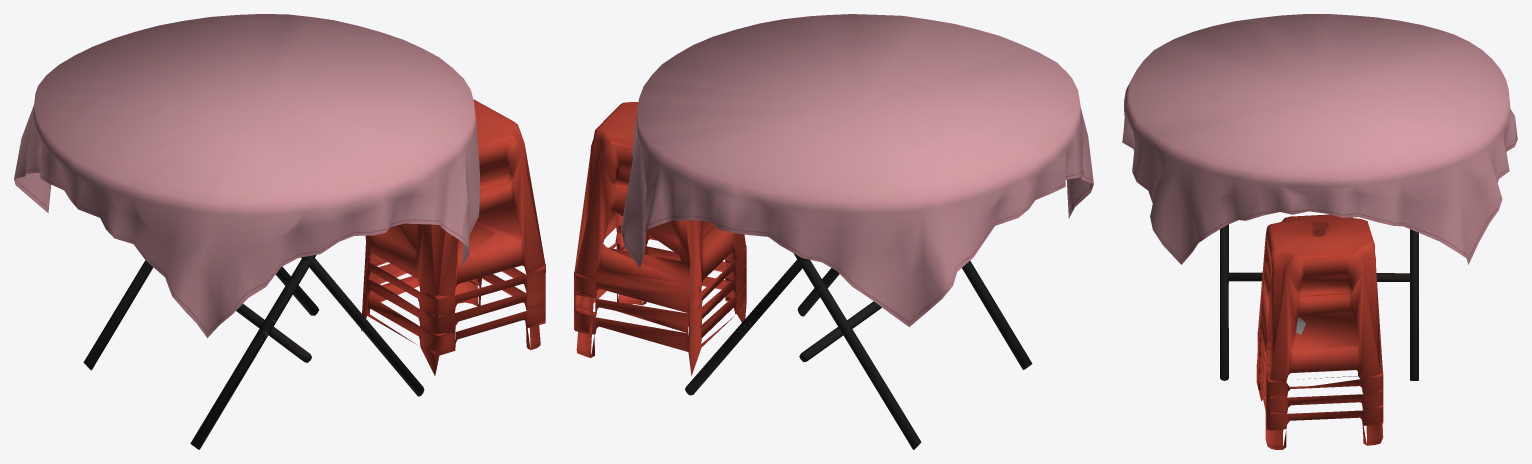
Rendered from stools.glb.
3 renders of one model, left to right at view 1: azimuth 30°, elevation 25°; view 2: azimuth 150°, elevation 25°; view 3: azimuth 270°, elevation 25°, orthographic. The views are drawn at different scales.
Parts seen in each view (by area): view 1: tripo_node_05a87229-2021-444a-a01c-3deba2225603; view 2: tripo_node_05a87229-2021-444a-a01c-3deba2225603; view 3: tripo_node_05a87229-2021-444a-a01c-3deba2225603.
Boxes of the visible parts, x1,y1,x2,y2 form: tripo_node_05a87229-2021-444a-a01c-3deba2225603: [14, 14, 545, 449]; tripo_node_05a87229-2021-444a-a01c-3deba2225603: [574, 14, 1093, 449]; tripo_node_05a87229-2021-444a-a01c-3deba2225603: [1122, 14, 1517, 449].
Size of the model in its own units: 0.998 by 0.5879 by 0.8613.
1 material, 1 textured.
